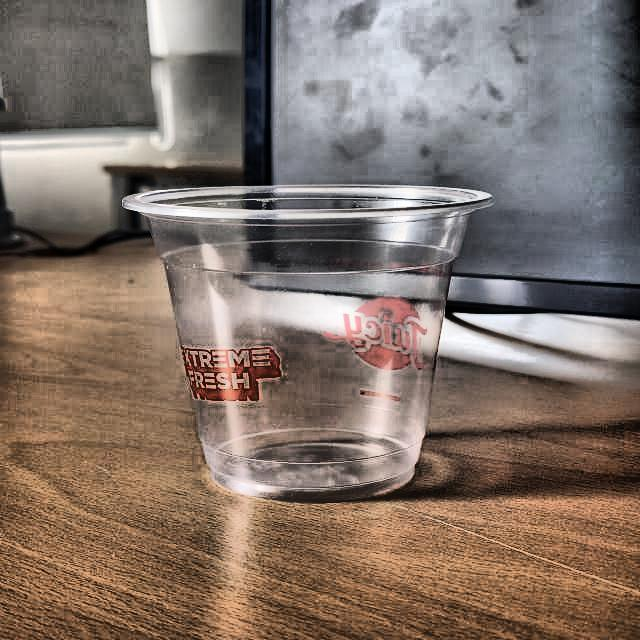plastic cup: (115, 183, 498, 504)
